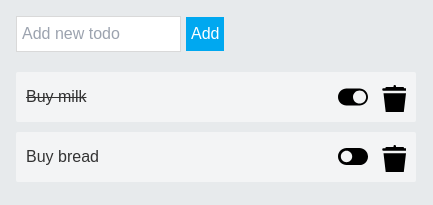
Scenario: TodoApp › Todo App with initial data › edits a todo item by pressing enter on the edit input
The width and height of the screenshot is (433, 205).
Click the text "Buy milk": x=56, y=97 [26,85,86,109]
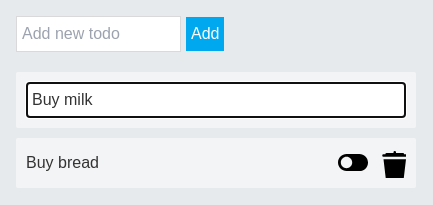
Replace the text in the field showing "Buy milk" with "Buy eggs": x=216, y=100 [26,82,406,118]
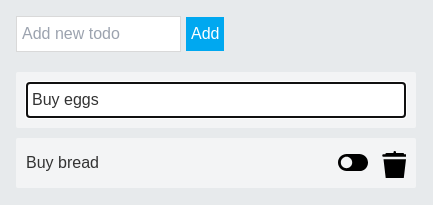
Press Enter in the field showing "Buy milk", box [26,82,406,118]
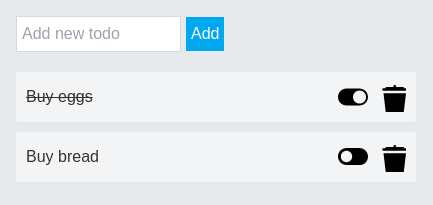
Expected: the text "Buy eggs" is shown, [26,85,93,109]
